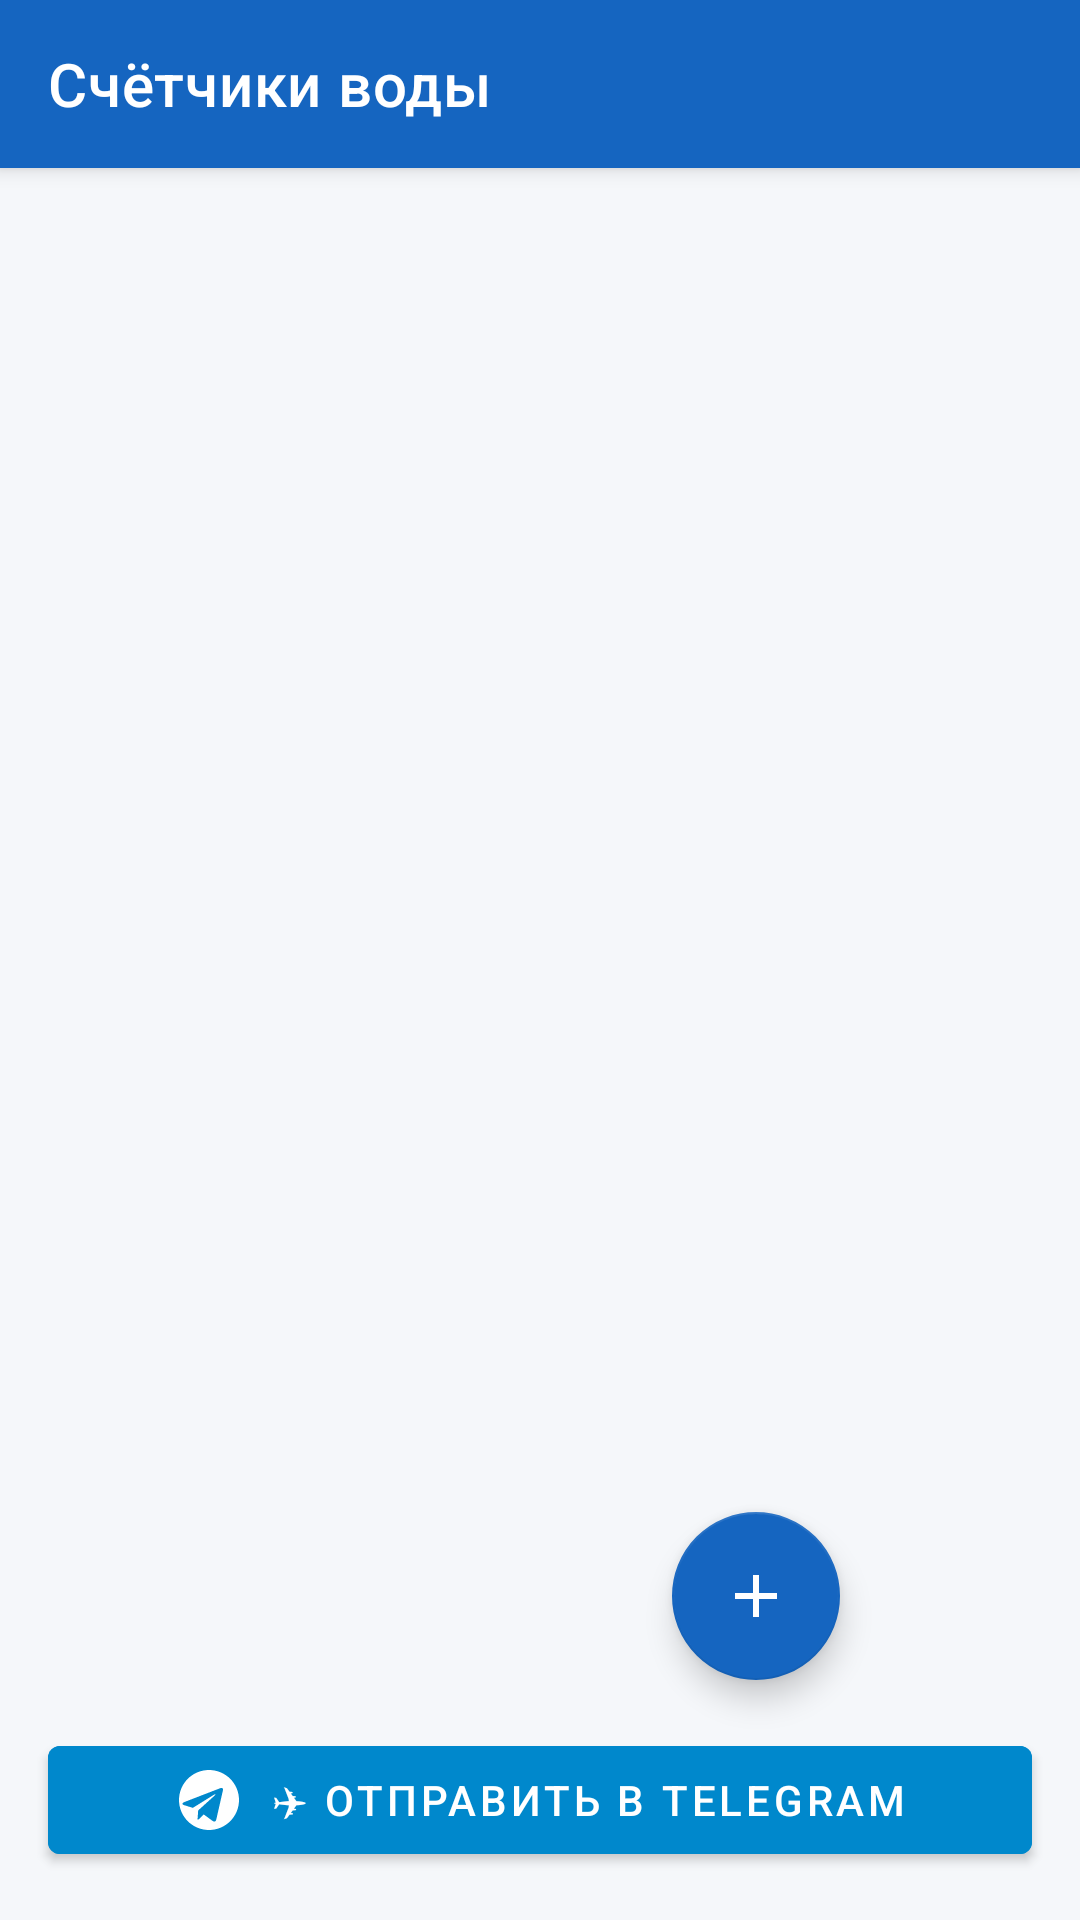

Icons on this 1080px×1920px Android screen, each with its box as (x1, y1, x2, y2):
Добавить показание: (672, 1512, 840, 1680)
